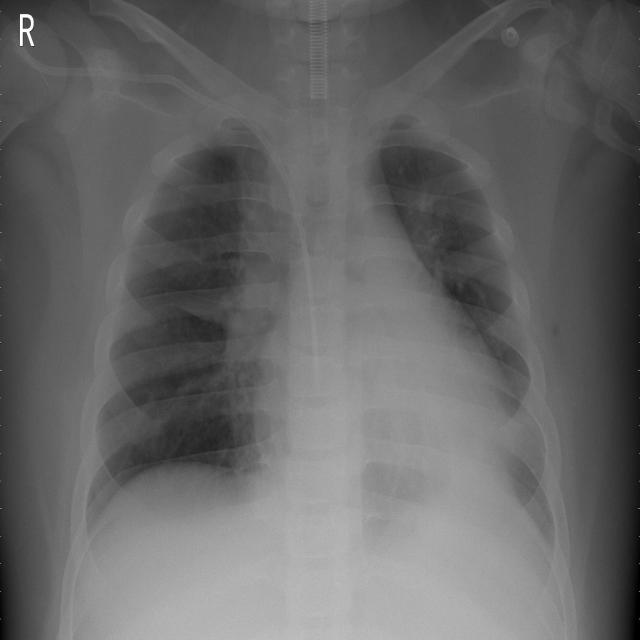low-pneumonia: (209, 163, 296, 453), (89, 299, 161, 455), (502, 379, 559, 519), (403, 178, 466, 268)
